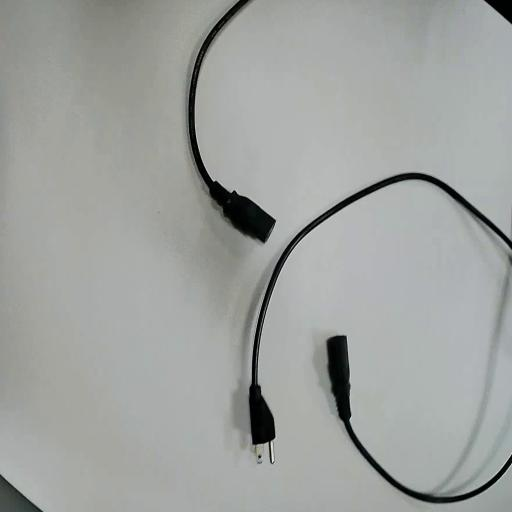wire: (249, 174, 511, 443), (327, 336, 511, 501), (188, 0, 274, 241)
